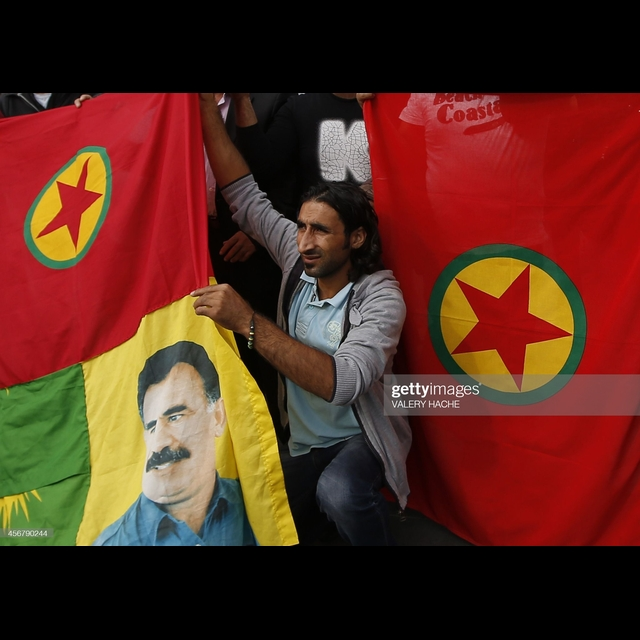APO: (131, 348, 221, 509)
PKK: (426, 239, 597, 384), (23, 142, 123, 275)
